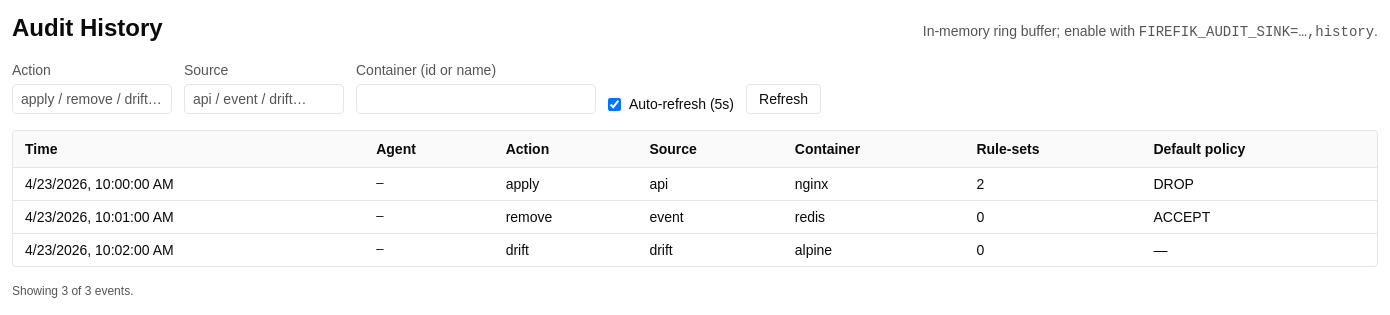
it: HistoryPage › filters events by action substring
Expected: the text "nginx" is shown, top-left (783, 168), bottom-right (964, 200)
Type "apply" into the field with placeholder "apply / remove / drift…" at (92, 99), box top-left (12, 84), bottom-right (172, 114)
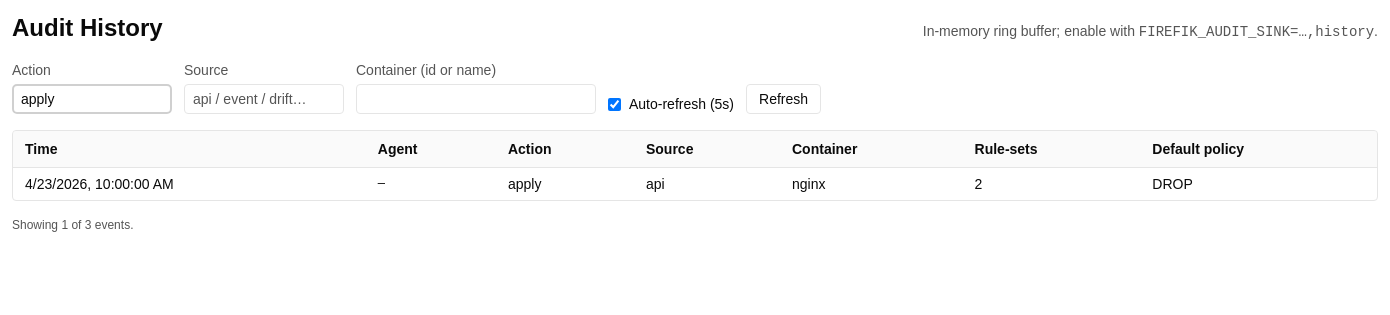
Expected: the text "nginx" is shown, top-left (780, 168), bottom-right (962, 200)
Result: the text "redis" is gone
Result: the text "Showing 1 of 3 events." is shown at top-left (12, 218), bottom-right (134, 232)
